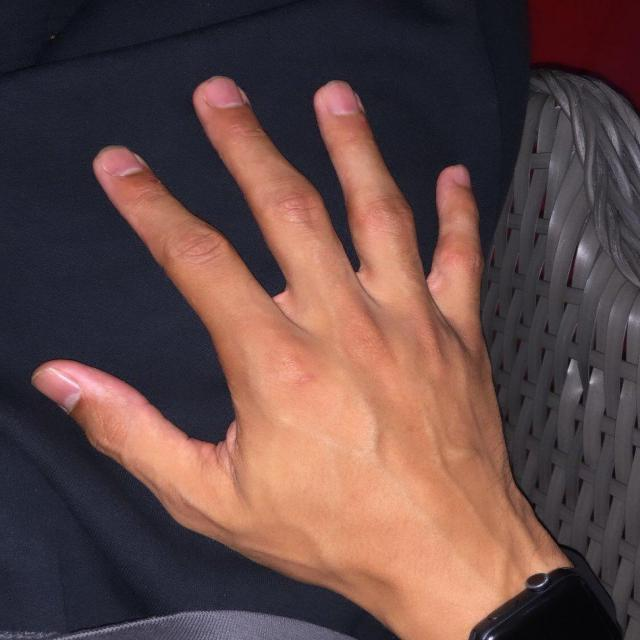hand: (32, 77, 567, 621)
